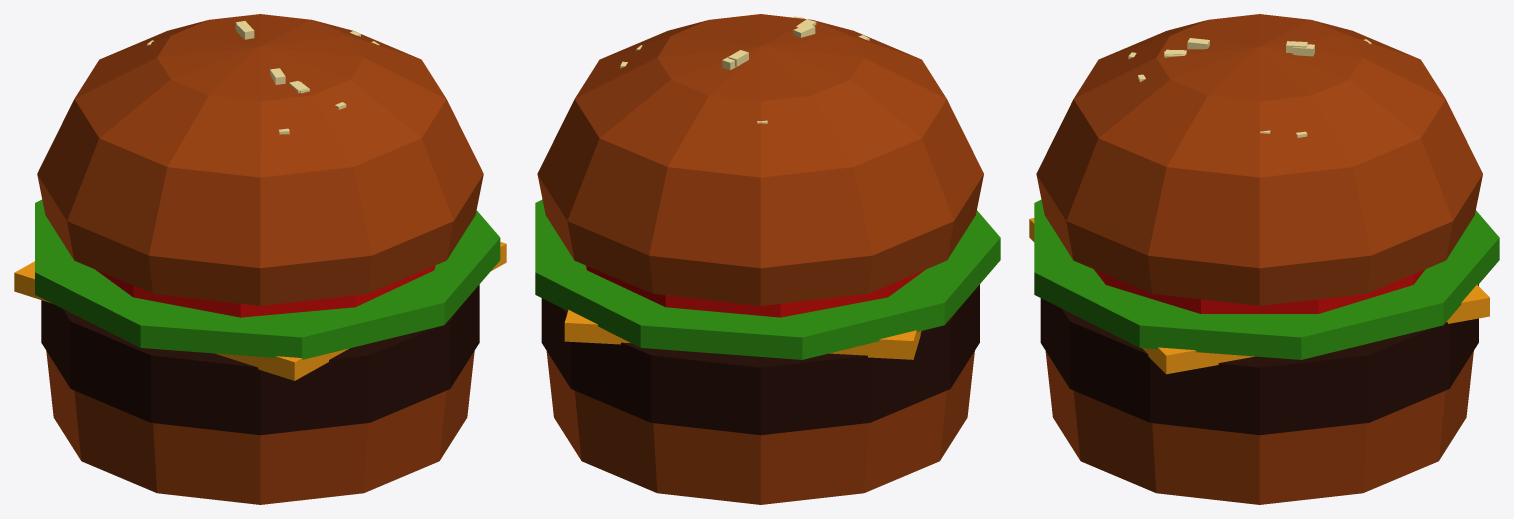
The model's file is burger.obj.
3 views of the same model, side by side, from view 1: azimuth 30°, elevation 25°; view 2: azimuth 150°, elevation 25°; view 3: azimuth 270°, elevation 25° (orthographic).
Visible parts, largest first — view 1: burger; view 2: burger; view 3: burger.
Boxes of the visible parts, x1,y1,x2,y2 form: burger: [14, 14, 506, 504]; burger: [535, 14, 1000, 504]; burger: [1029, 14, 1499, 504].
Size of the model in its own units: 0.1142 by 0.1002 by 0.1137.
